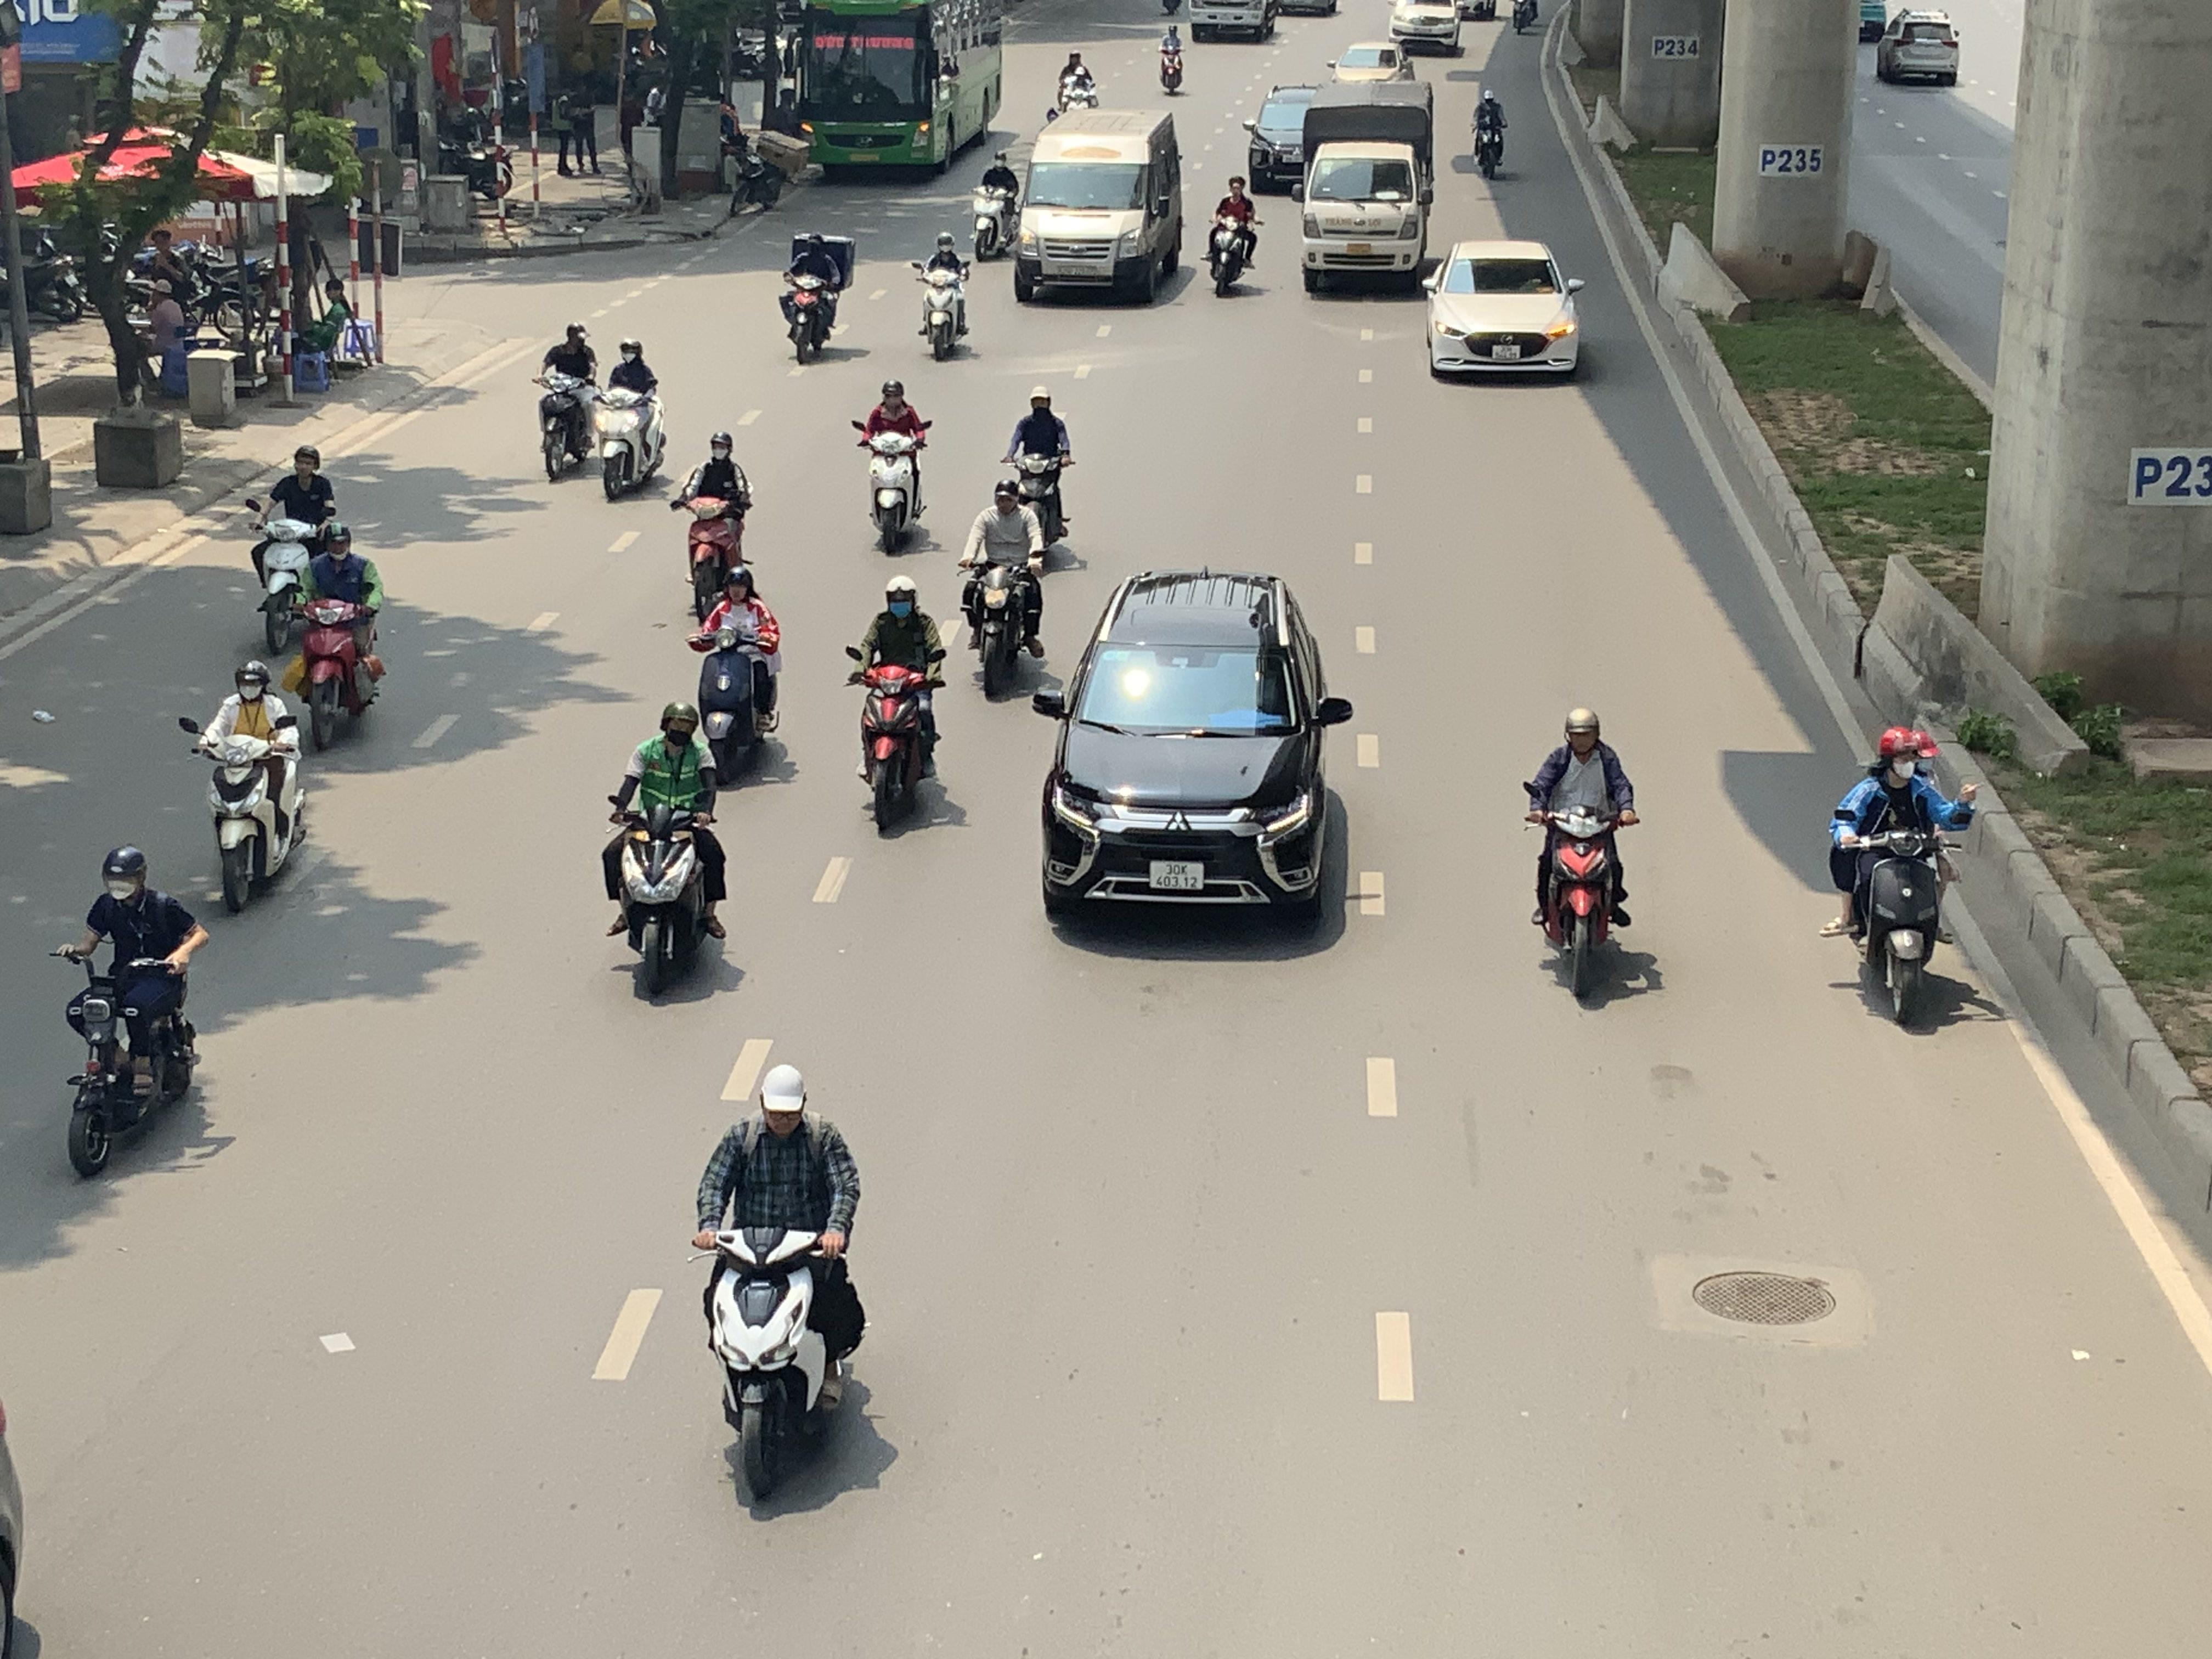BSV: (1150, 861, 1204, 889)
bus: (791, 0, 1007, 178)
car: (1031, 568, 1355, 932), (1421, 237, 1585, 382), (1244, 84, 1325, 193), (1874, 7, 1963, 87)
motorbike: (693, 1061, 867, 1514), (57, 843, 206, 1182), (1827, 723, 1973, 1032), (603, 697, 730, 1006), (1524, 706, 1637, 1007), (183, 657, 308, 917), (848, 575, 948, 840), (291, 521, 385, 751), (690, 563, 784, 784), (958, 476, 1049, 702), (247, 443, 340, 652), (672, 430, 752, 619), (855, 376, 932, 556), (594, 336, 671, 502), (1000, 389, 1076, 554), (535, 321, 599, 483), (779, 228, 848, 364), (914, 230, 974, 362), (1205, 174, 1261, 296), (723, 117, 786, 218), (968, 148, 1022, 261), (1472, 85, 1510, 179), (1052, 49, 1101, 115), (1157, 21, 1186, 96)
truck: (1292, 77, 1439, 296)
